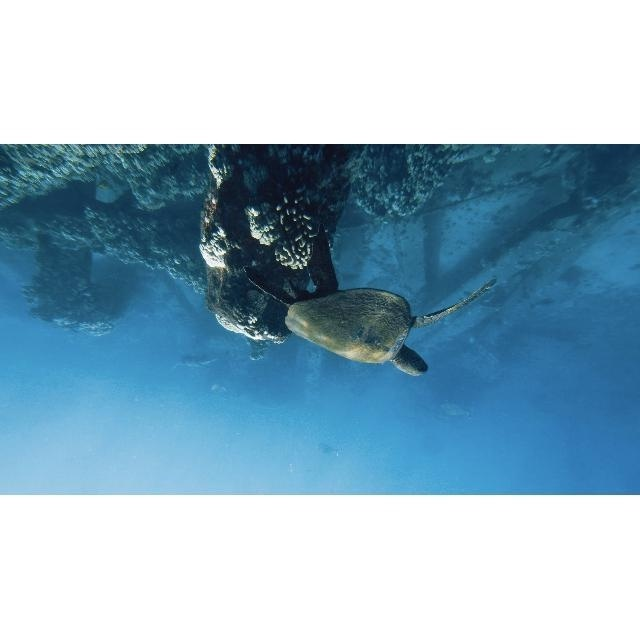turtle: (247, 228, 497, 378)
